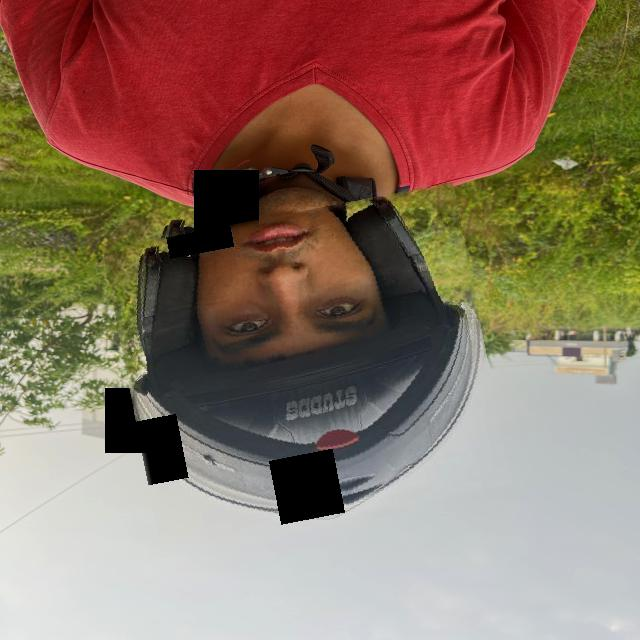helmet: (116, 198, 499, 536)
